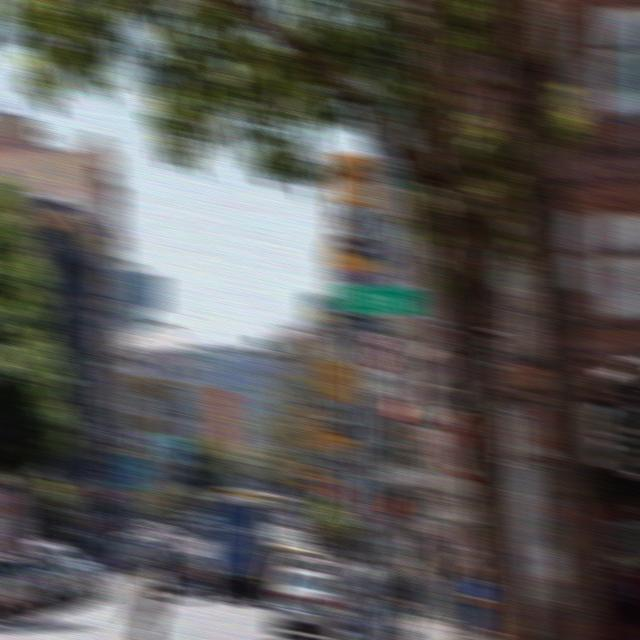speedLimit20: (4, 508, 32, 546)
